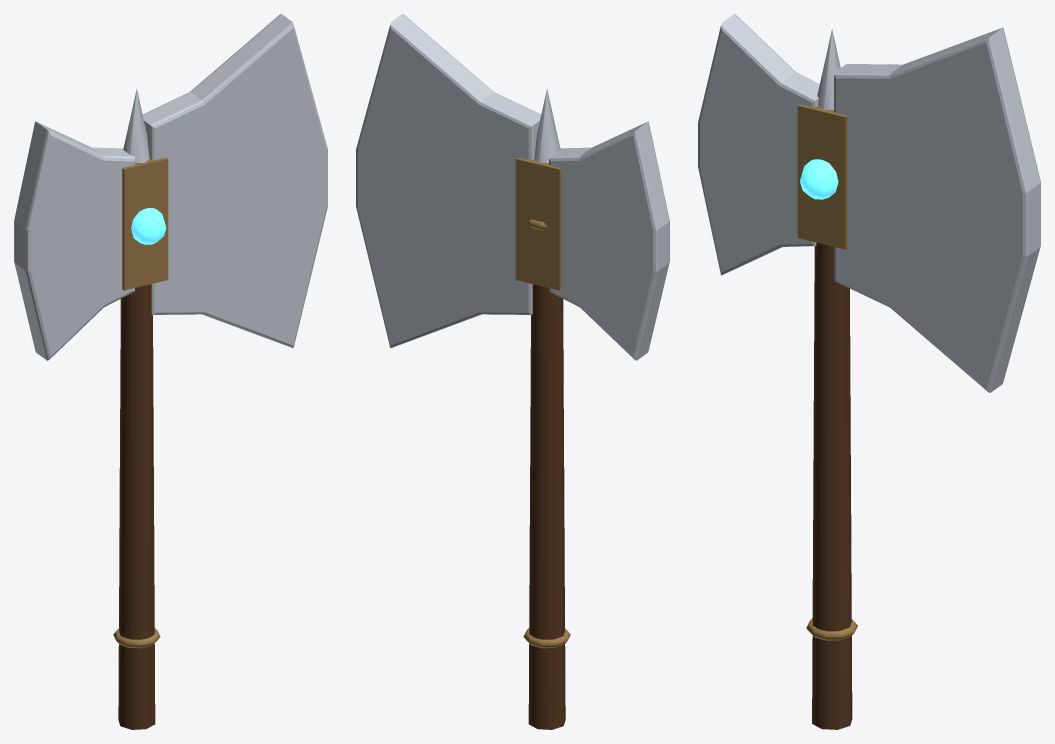
The model's file is axe_f0_e0f6275c.glb.
3 renders of one model, left to right at view 1: azimuth 30°, elevation 25°; view 2: azimuth 150°, elevation 25°; view 3: azimuth 330°, elevation 25°, orthographic. The views are drawn at different scales.
Visible parts, largest first — view 1: m3_ow80_, m0_ow80_, m2_ow80_, m1_gm160_; view 2: m3_ow80_, m0_ow80_, m2_ow80_; view 3: m3_ow80_, m0_ow80_, m2_ow80_, m1_gm160_.
Part boxes in pixels (box(x1,y1,x2,y2)): m3_ow80_: box(14, 14, 327, 360); m0_ow80_: box(118, 284, 155, 729); m2_ow80_: box(113, 157, 168, 648); m1_gm160_: box(131, 208, 166, 244); m3_ow80_: box(356, 14, 669, 360); m0_ow80_: box(528, 284, 565, 729); m2_ow80_: box(515, 157, 570, 648); m3_ow80_: box(698, 14, 1040, 392); m0_ow80_: box(812, 242, 852, 729); m2_ow80_: box(797, 104, 857, 640); m1_gm160_: box(800, 159, 838, 199).
Bounding box in the file's own units: 1.1 × 2.32 × 0.2013.
